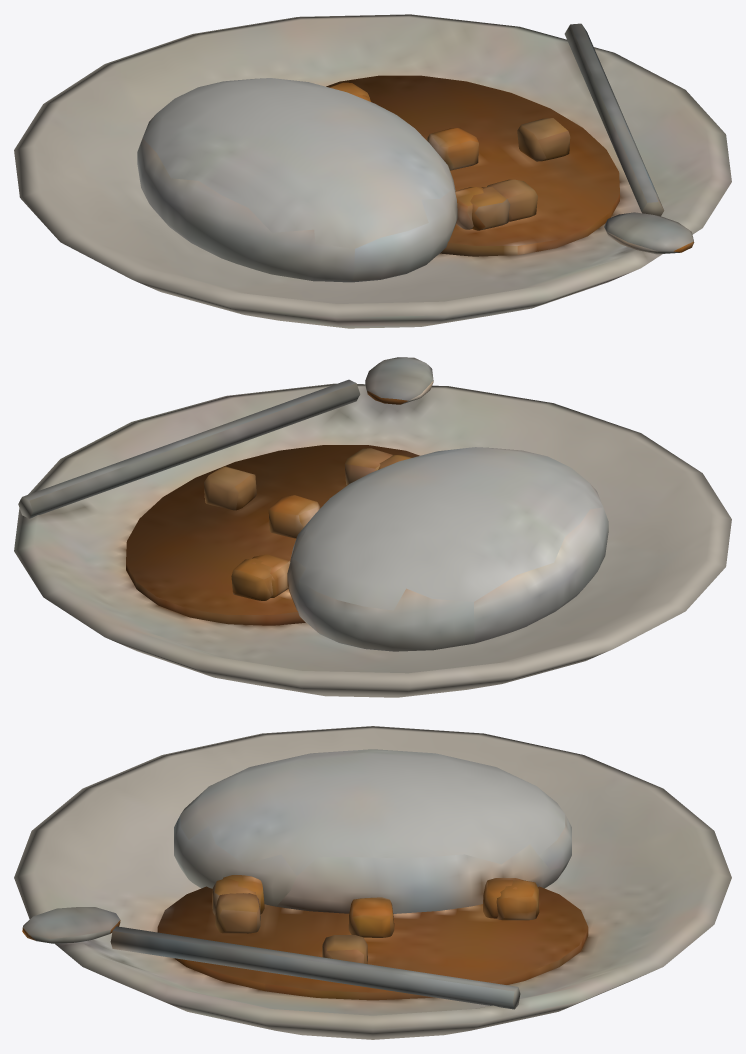
Rendered from curry.glb.
The picture shows the model from 3 angles, top to bottom: view 1: azimuth 30°, elevation 25°; view 2: azimuth 150°, elevation 25°; view 3: azimuth 270°, elevation 25°; orthographic projection.
Visible parts, largest first — view 1: prop_curry_felt; view 2: prop_curry_felt; view 3: prop_curry_felt.
Part boxes in pixels (x1,y1,x2,y2): prop_curry_felt: (14, 14, 731, 328); prop_curry_felt: (14, 357, 731, 697); prop_curry_felt: (14, 726, 731, 1039).
Bounding box in the file's own units: 0.375 × 0.0752 × 0.375.
Materials: 1 (1 with a texture image).
